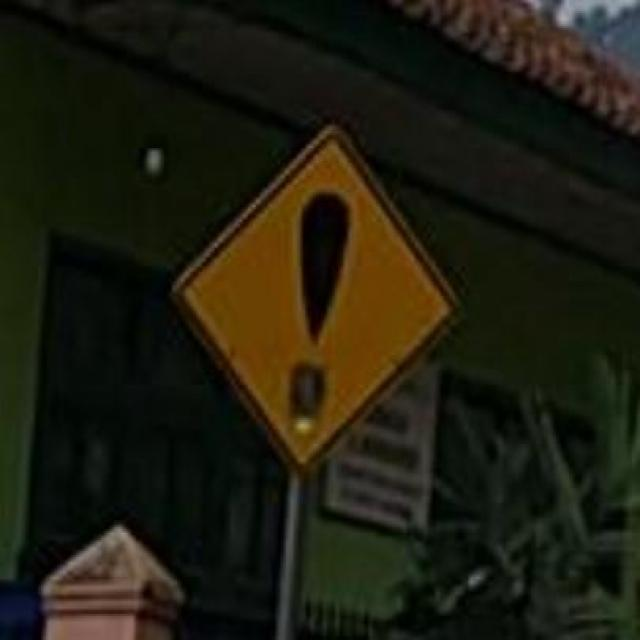traffic sign: (182, 130, 460, 476)
